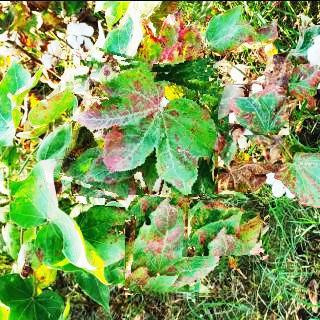blight: (65, 54, 218, 206), (126, 194, 230, 299), (188, 193, 263, 268), (140, 0, 207, 71), (234, 90, 283, 139)
